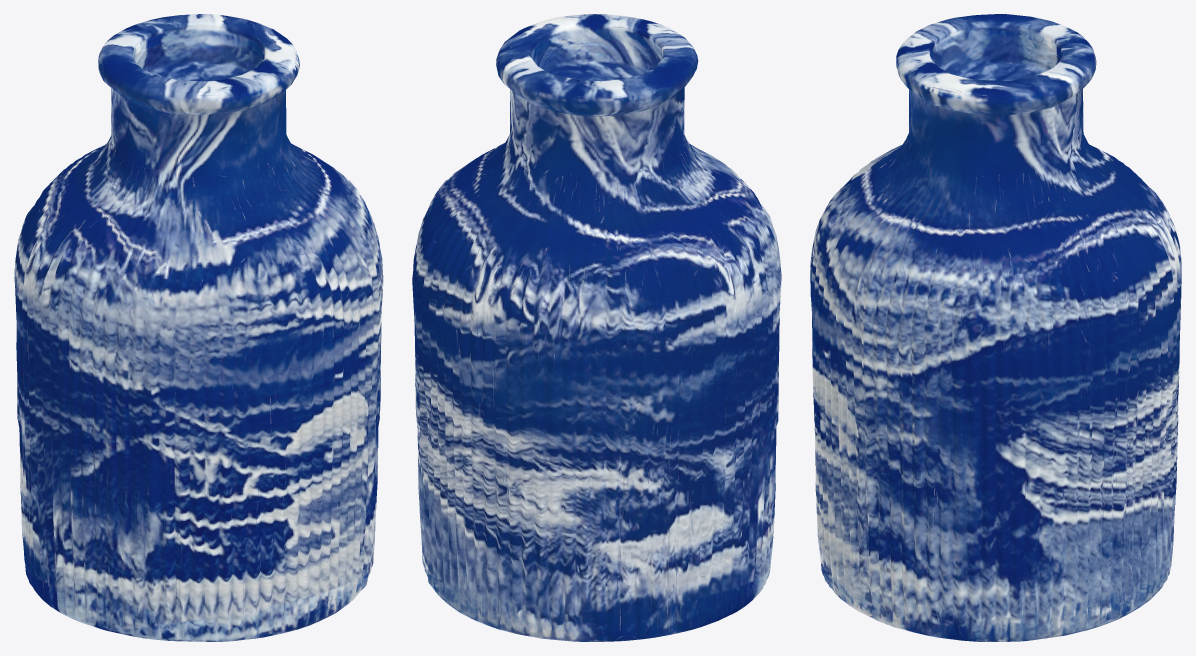
File: Blue Nigel.glb
3 renders of one model, left to right at view 1: azimuth 30°, elevation 25°; view 2: azimuth 150°, elevation 25°; view 3: azimuth 270°, elevation 25°, orthographic.
Visible parts, largest first — view 1: Mesh1.0; view 2: Mesh1.0; view 3: Mesh1.0.
Part boxes in pixels (x1=…): Mesh1.0: x1=14, y1=14, x2=383, y2=641; Mesh1.0: x1=412, y1=14, x2=781, y2=641; Mesh1.0: x1=810, y1=14, x2=1181, y2=641.
Bounding box in the file's own units: 0.0645 × 0.1 × 0.0646.
1 material, 1 textured.
